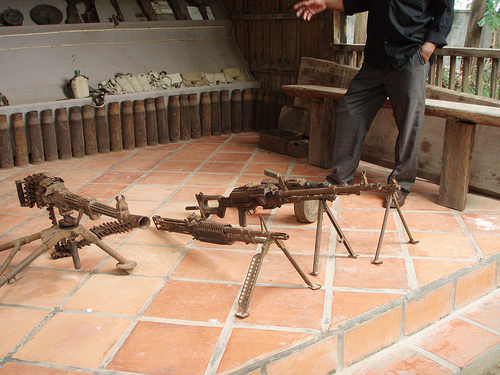rifle: (13, 162, 150, 293), (188, 150, 403, 231), (155, 214, 317, 315)
